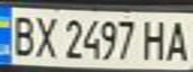2: (60, 15, 84, 61)
4: (81, 16, 103, 61)
7: (115, 17, 142, 61)
9: (100, 17, 121, 61)
A: (163, 16, 193, 63)
B: (6, 11, 39, 57)
H: (139, 17, 172, 61)
X: (30, 12, 60, 60)
